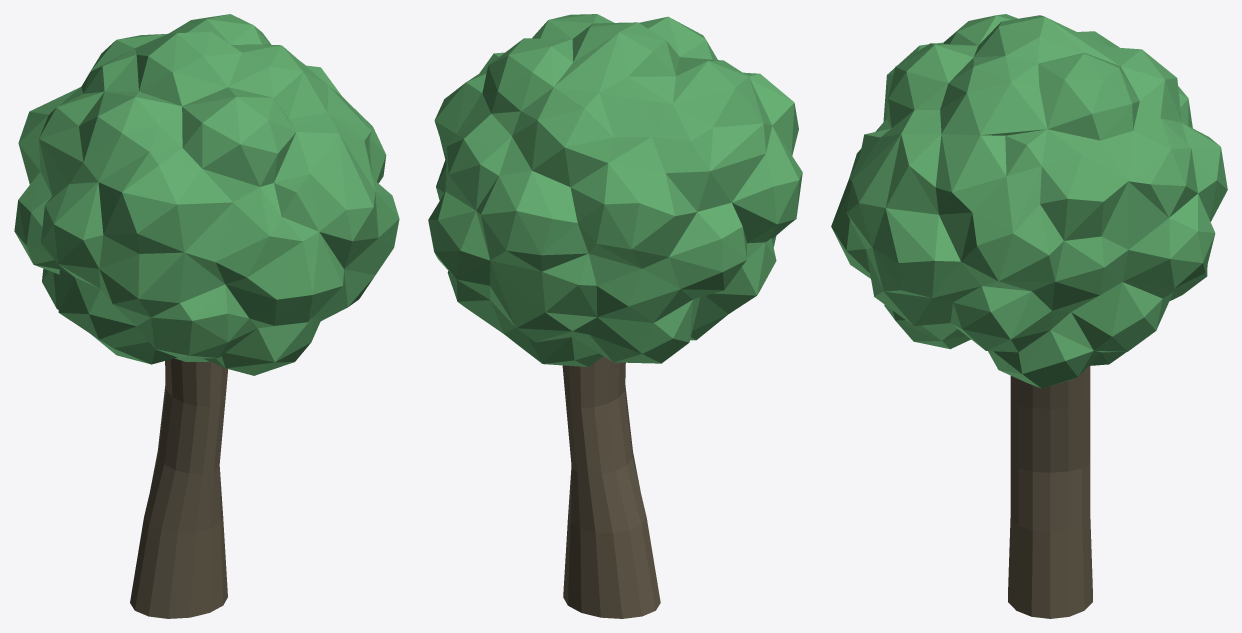
Rendered from SM_Tree.fbx.
3 views of the same model, side by side, from view 1: azimuth 30°, elevation 25°; view 2: azimuth 150°, elevation 25°; view 3: azimuth 270°, elevation 25° (orthographic).
Parts seen in each view (by area): view 1: SM_Tree; view 2: SM_Tree; view 3: SM_Tree.
Part boxes in pixels (x1,y1,x2,y2): SM_Tree: (14,14,399,618); SM_Tree: (428,14,802,618); SM_Tree: (831,14,1227,618).
Bounding box in the file's own units: 318 × 516 × 321.
1 material, 1 textured.
